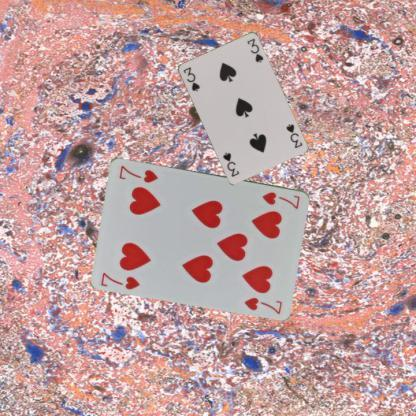3s: (180, 64, 201, 92), (283, 121, 303, 149)
7h: (98, 269, 141, 291), (260, 188, 301, 210)
